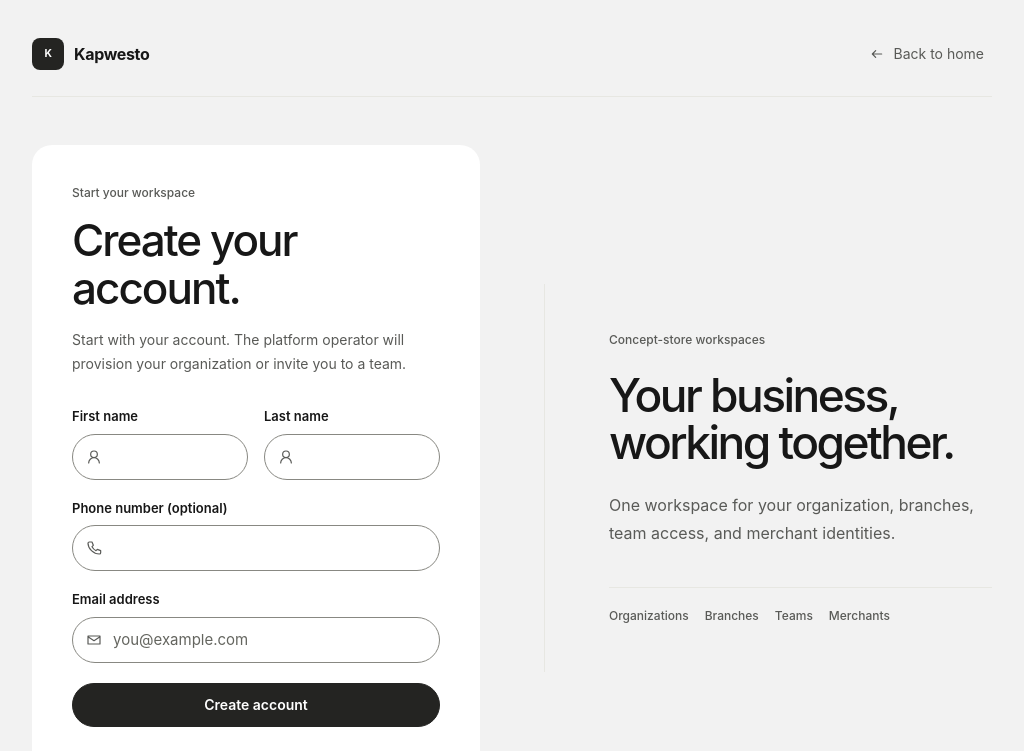
it: normalizes registration fields and reports server rejection
The image size is (1024, 751).
Type " Mara " into the field labelled "First name" at (160, 457), box top-left (72, 434), bottom-right (248, 480)
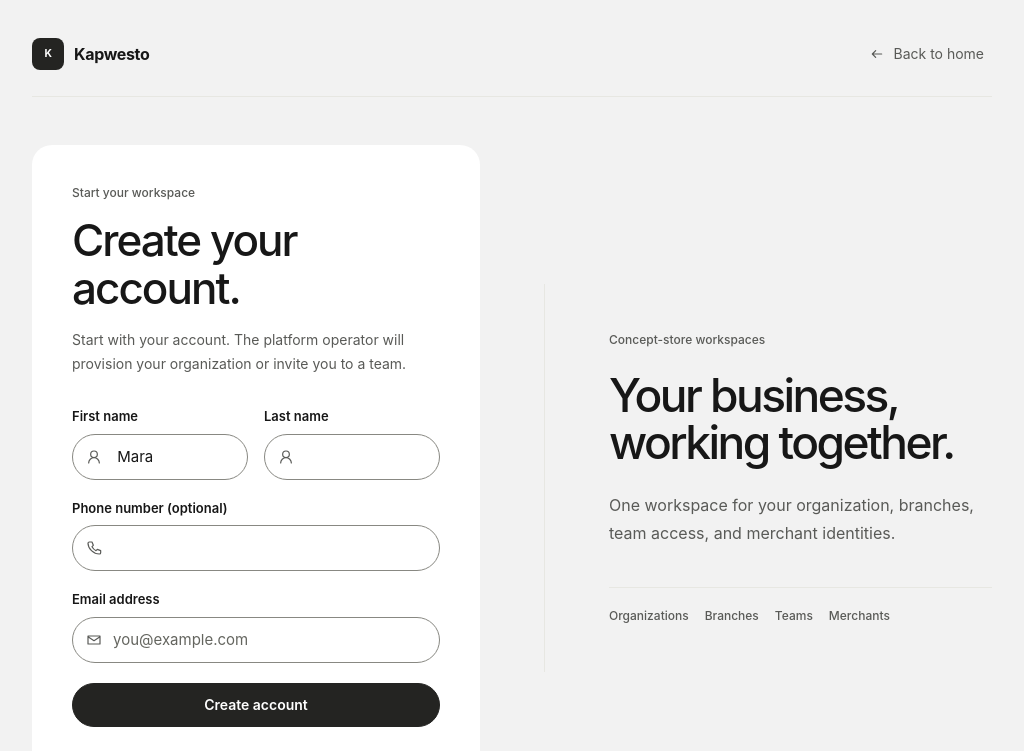
Type " Santos " into the field labelled "Last name" at (352, 457), box top-left (264, 434), bottom-right (440, 480)
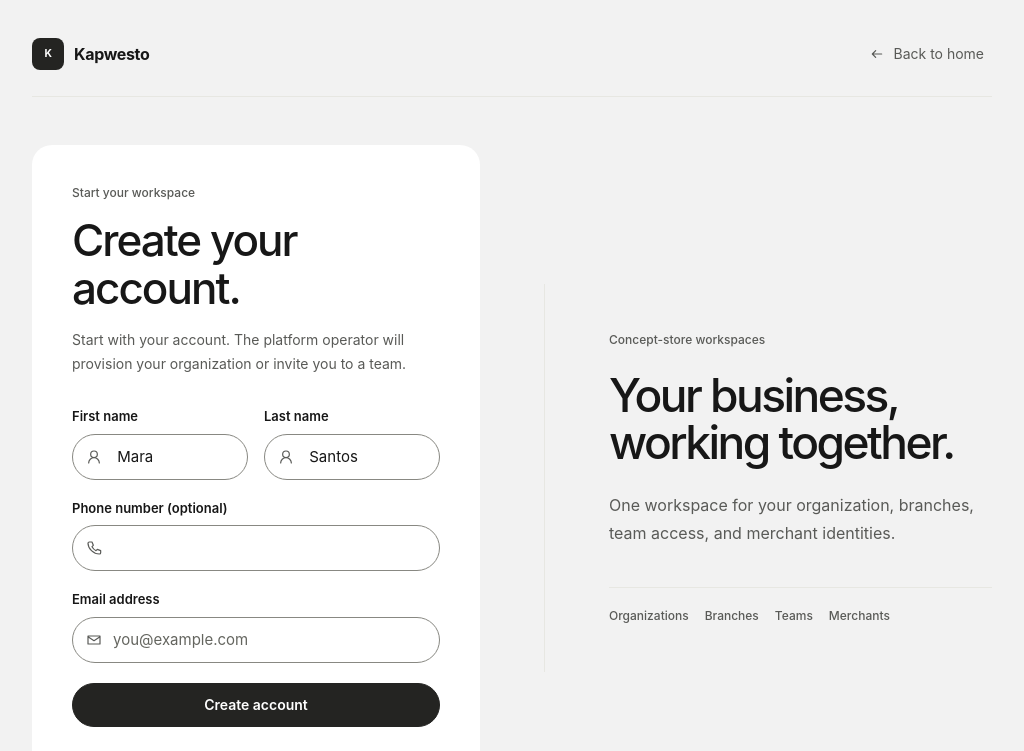
Type "mara@example.com" into the field labelled "Email address" at (256, 640), box top-left (72, 617), bottom-right (440, 663)
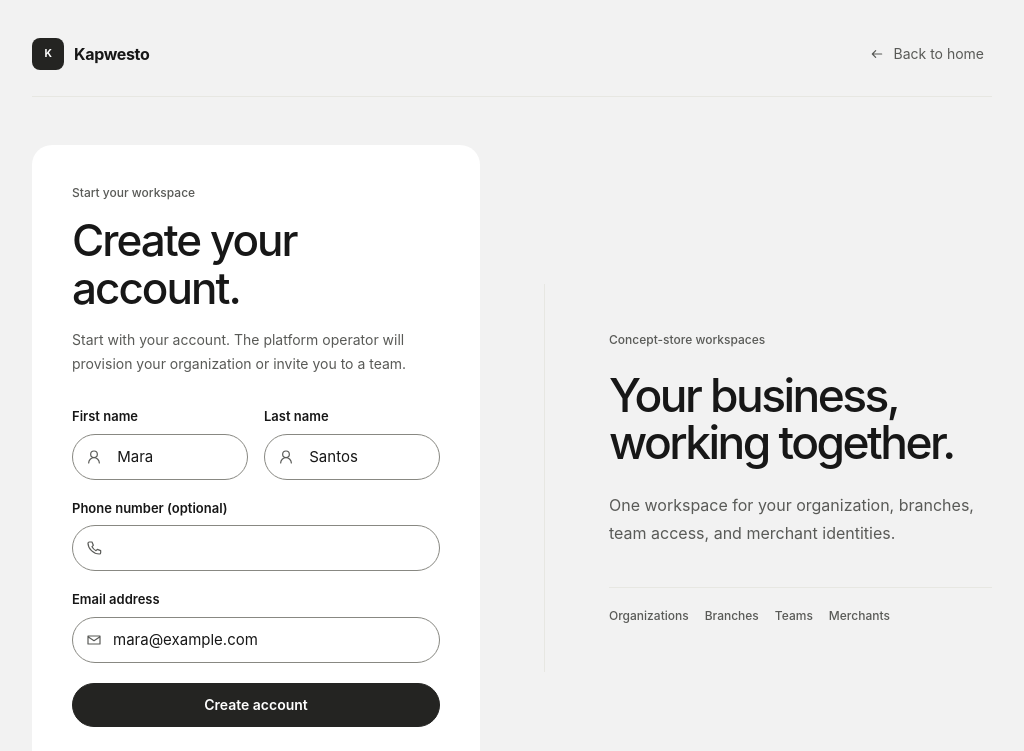
Click the button "Create account" at (256, 705), box top-left (72, 683), bottom-right (440, 727)
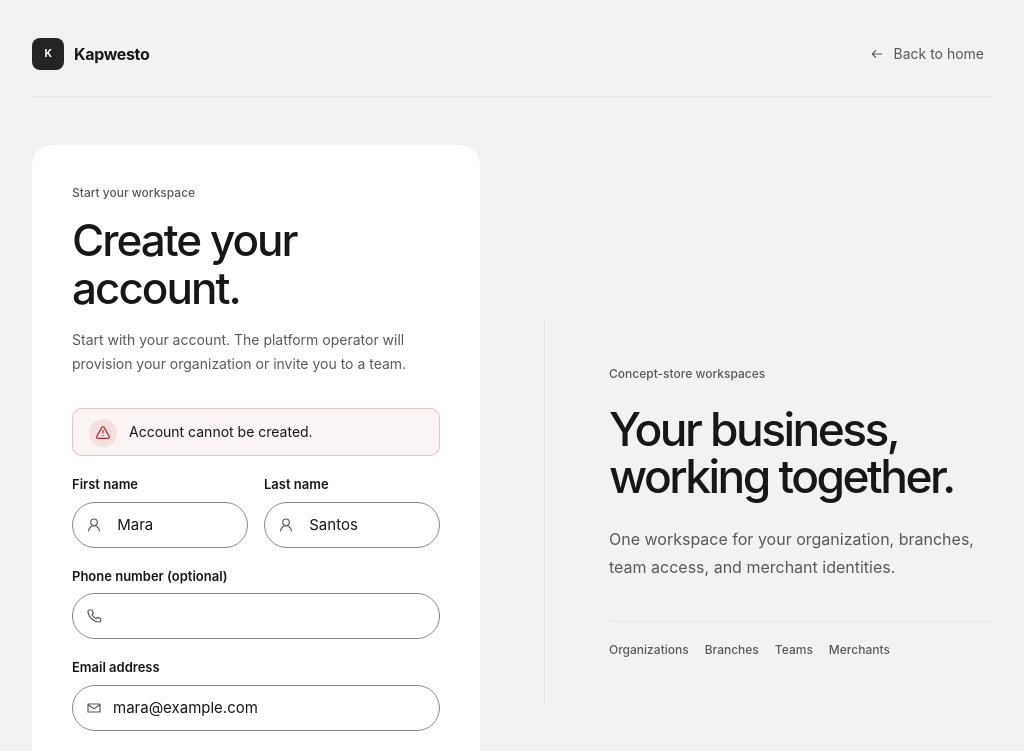
Expected: the message reads "Account cannot be created.", top-left (129, 423), bottom-right (313, 440)
